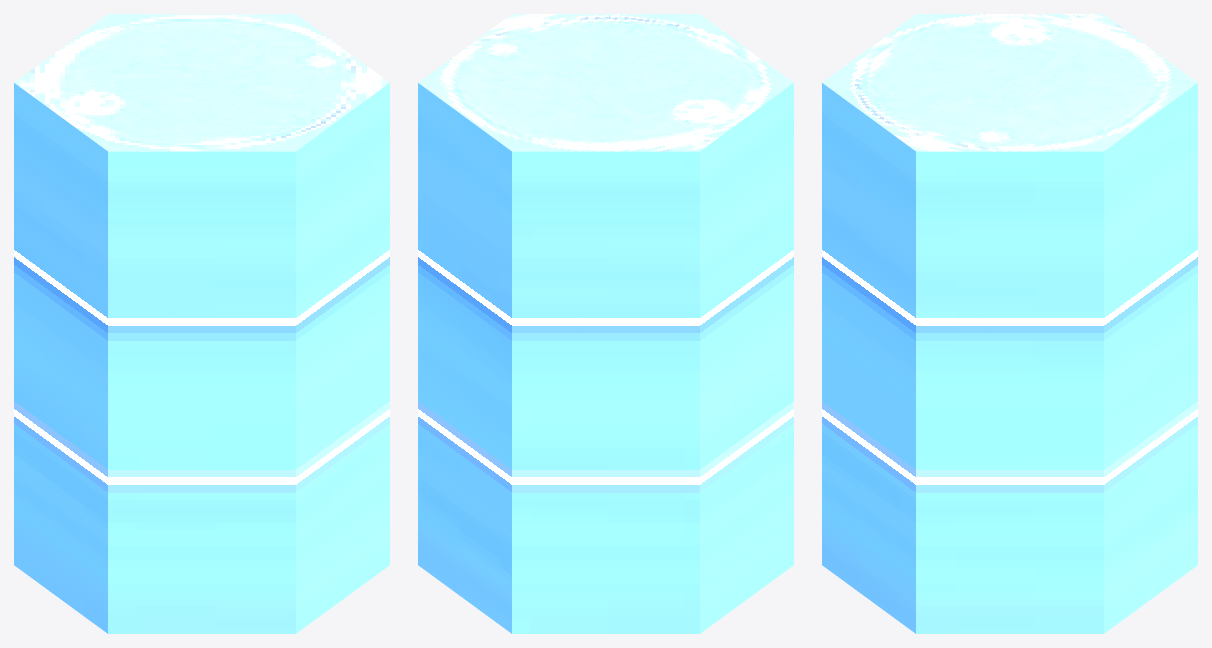
Rendered from barrel.glb.
3 renders of one model, left to right at view 1: azimuth 30°, elevation 25°; view 2: azimuth 150°, elevation 25°; view 3: azimuth 270°, elevation 25°, orthographic.
Parts seen in each view (by area): view 1: Cylinder; view 2: Cylinder; view 3: Cylinder.
Part boxes in pixels (x1=…): Cylinder: x1=14, y1=14, x2=389, y2=633; Cylinder: x1=418, y1=14, x2=793, y2=633; Cylinder: x1=822, y1=14, x2=1197, y2=633.
Bounding box in the file's own units: 0.5196 × 0.85 × 0.6.
